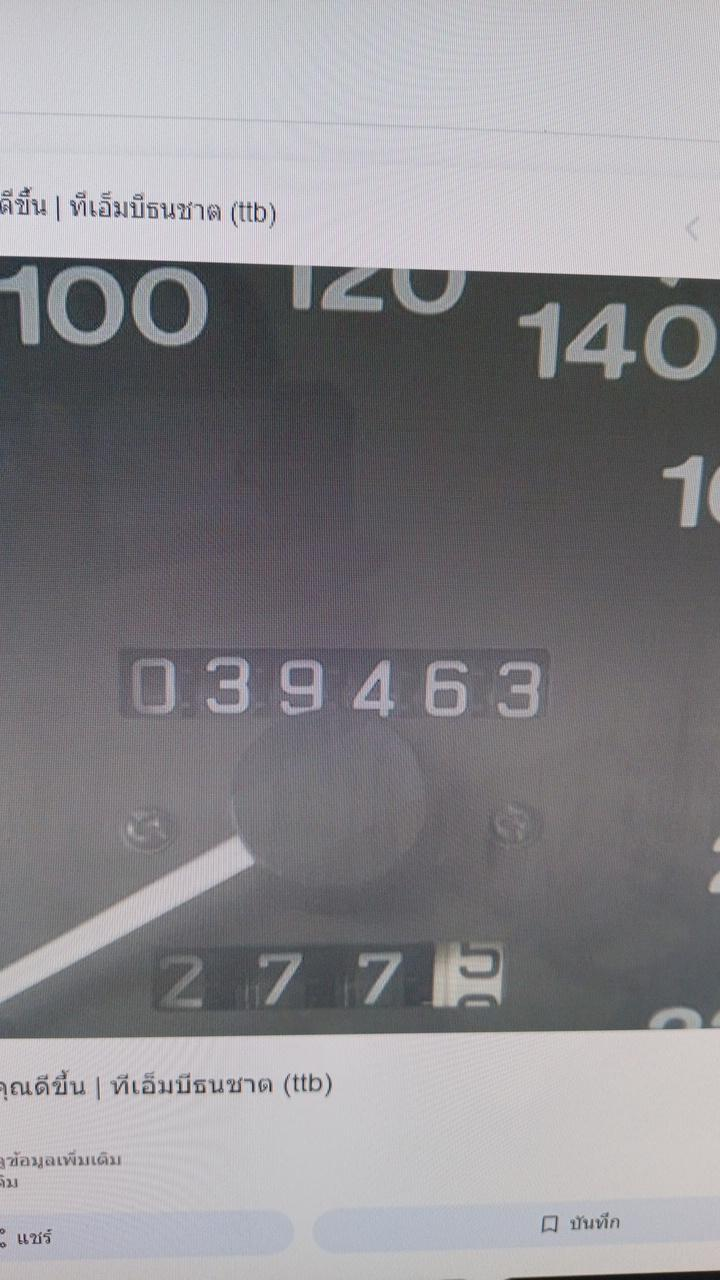0: (130, 657, 177, 718)
3: (203, 656, 251, 715), (496, 659, 542, 720)
4: (352, 658, 397, 720)
6: (425, 658, 469, 719)
9: (277, 658, 324, 715)
odometer: (116, 646, 552, 725)
